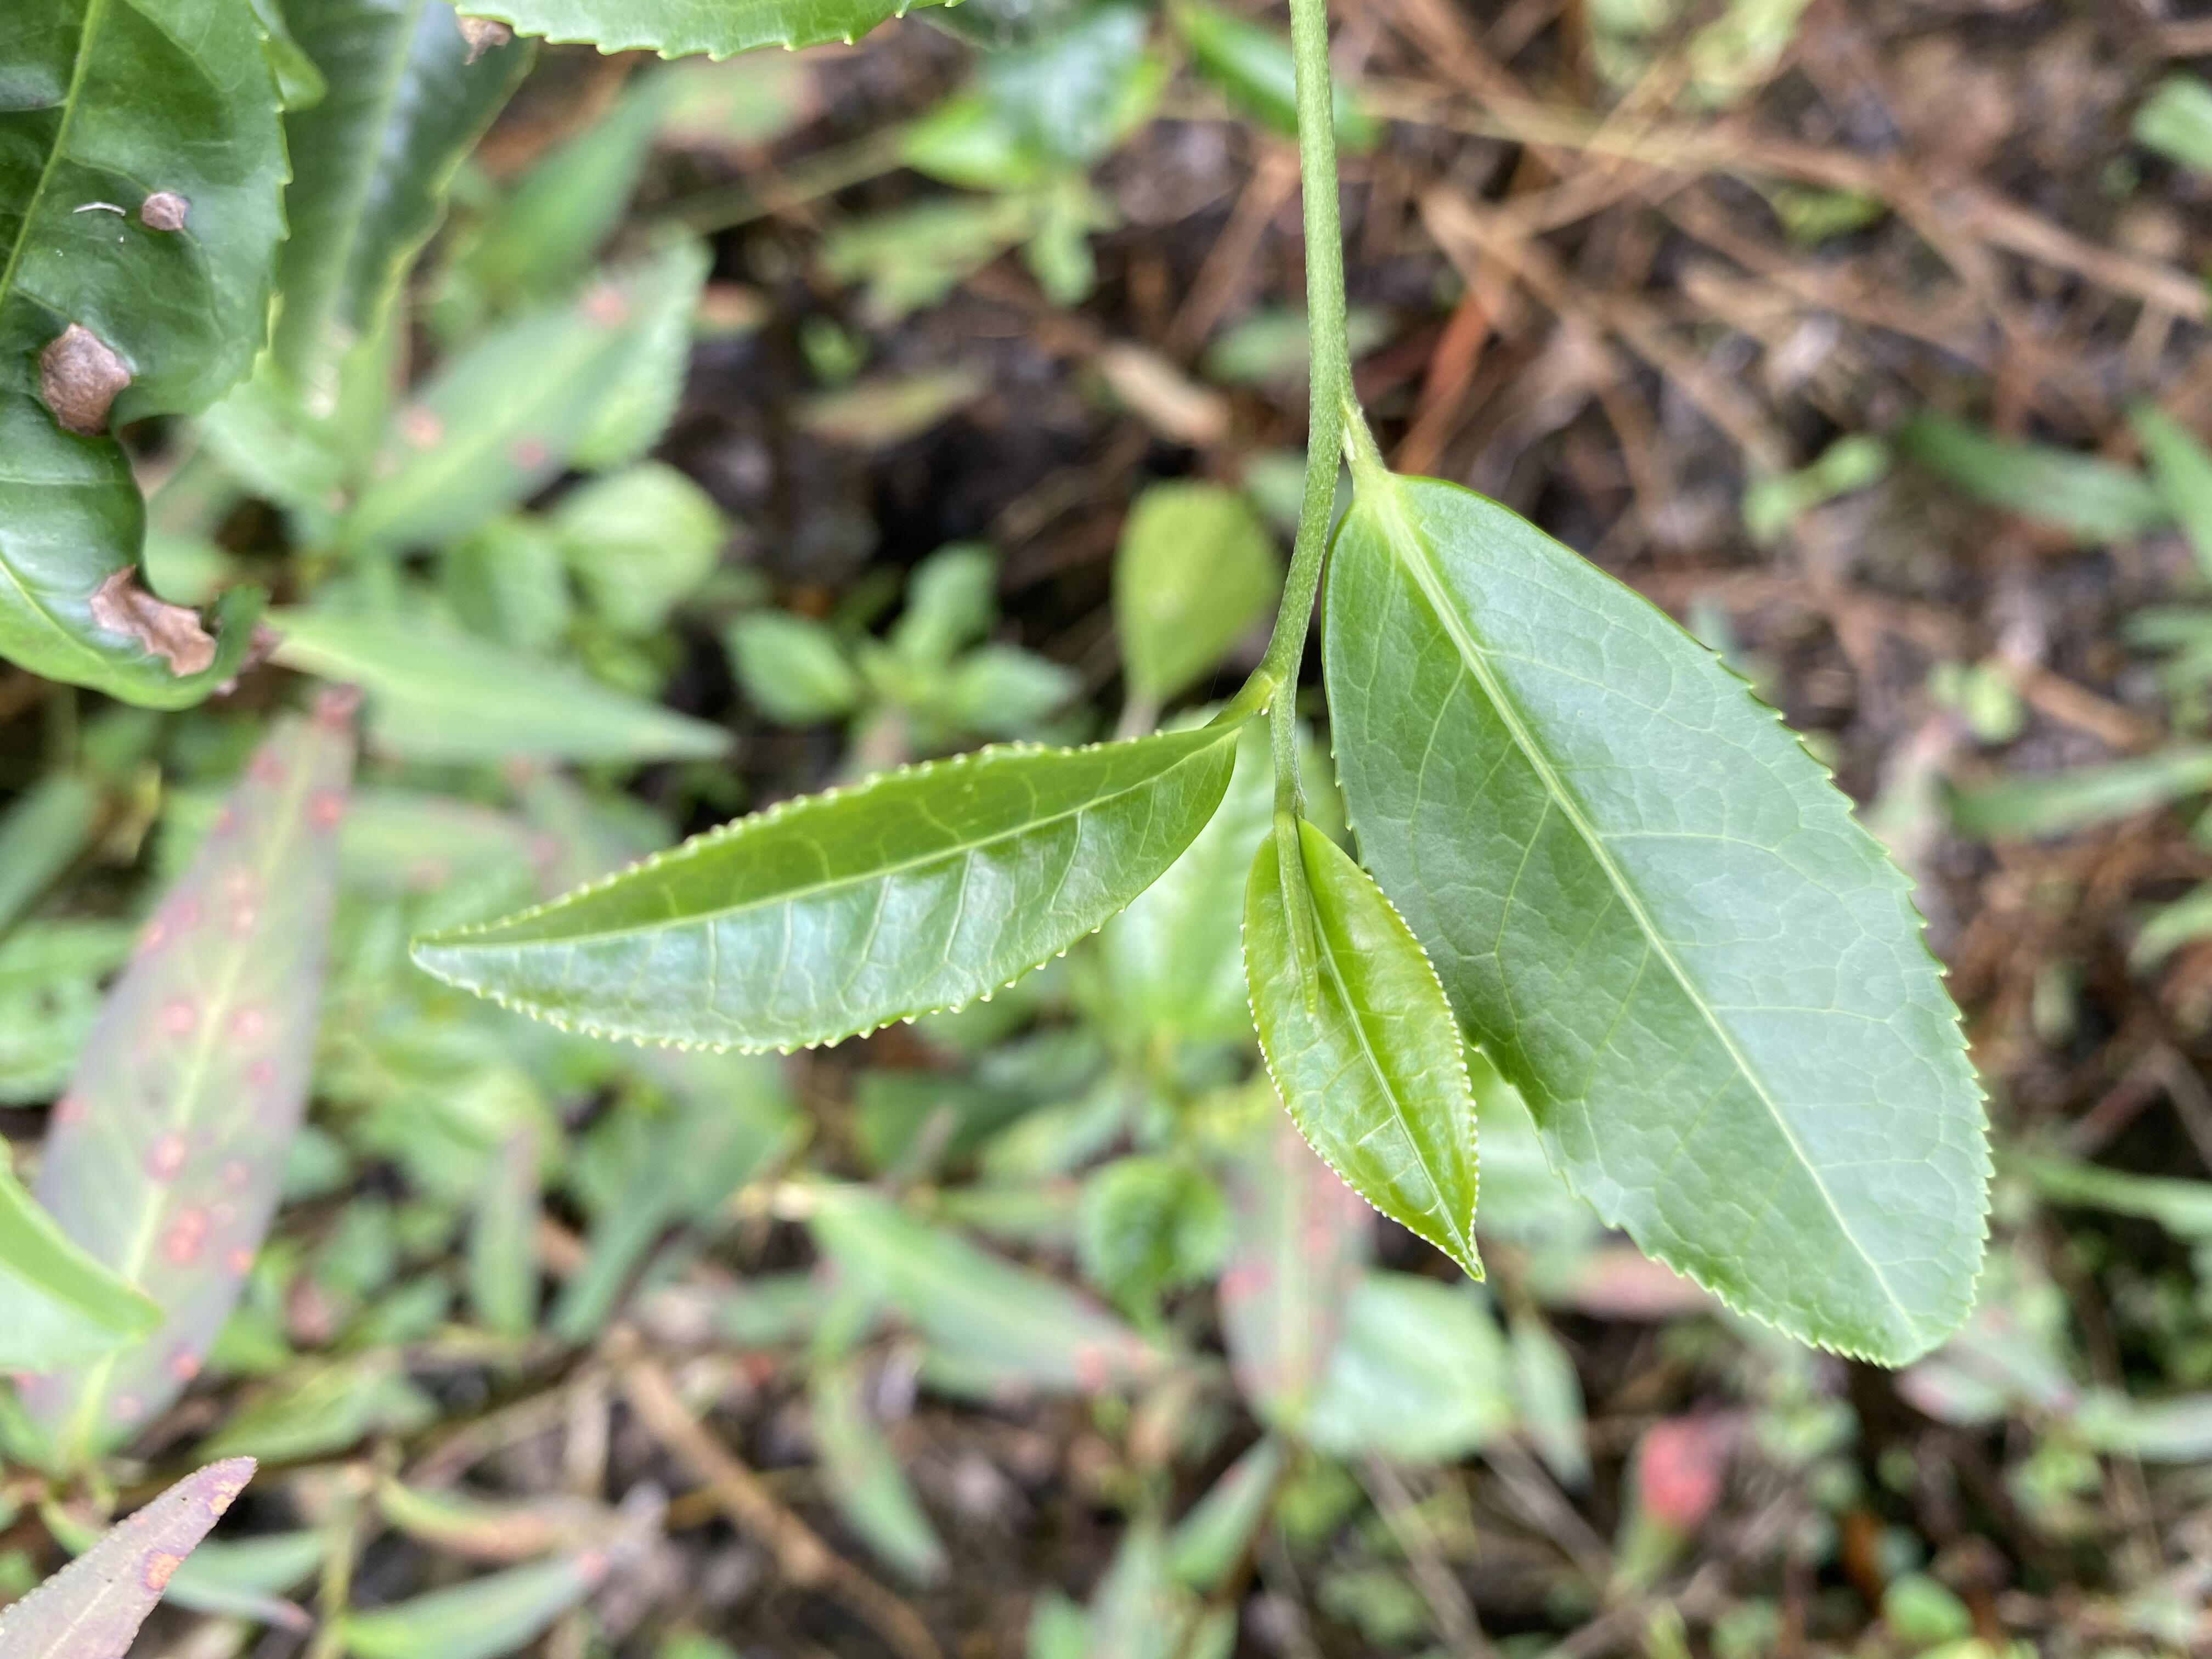healthy: (1320, 472, 2000, 1366), (408, 720, 1238, 1058), (1240, 812, 1493, 1283)
tanju_high: (5, 5, 298, 713)
